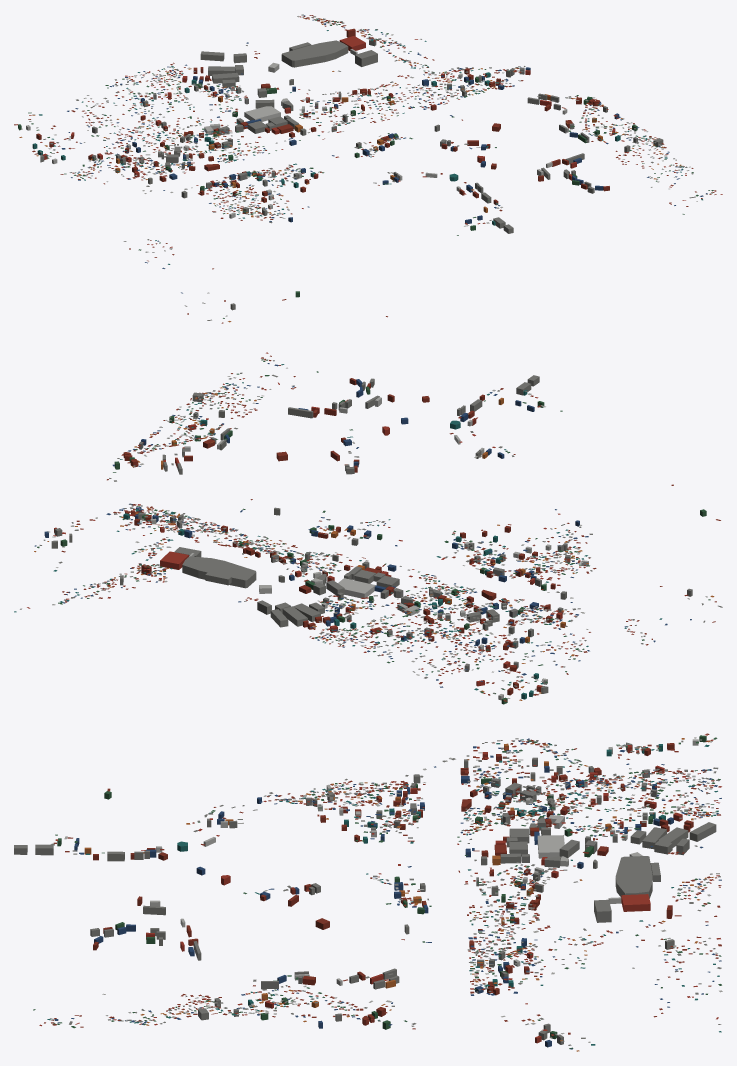
File: far-14-13681-7436.8cbccecf.glb
The picture shows the model from 3 angles, top to bottom: view 1: azimuth 30°, elevation 25°; view 2: azimuth 150°, elevation 25°; view 3: azimuth 270°, elevation 25°; orthographic projection. The views are drawn at different scales.
Size of the model in its own units: 2366 by 504 by 2361.
